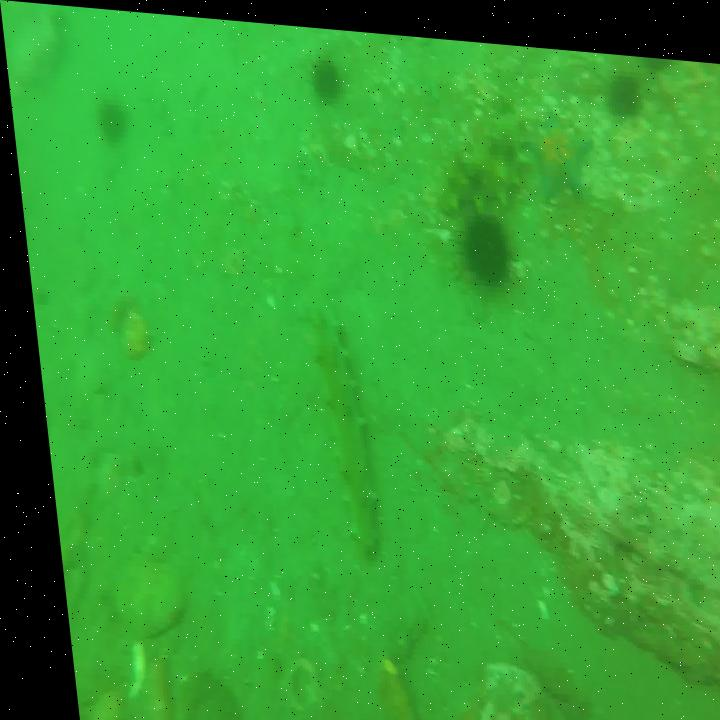echinus: (455, 200, 514, 292), (604, 62, 644, 117), (92, 93, 130, 146), (305, 47, 341, 97)
holothurian: (303, 304, 372, 552), (431, 94, 533, 208)
scallop: (268, 651, 309, 715)
starfish: (528, 105, 600, 196)
